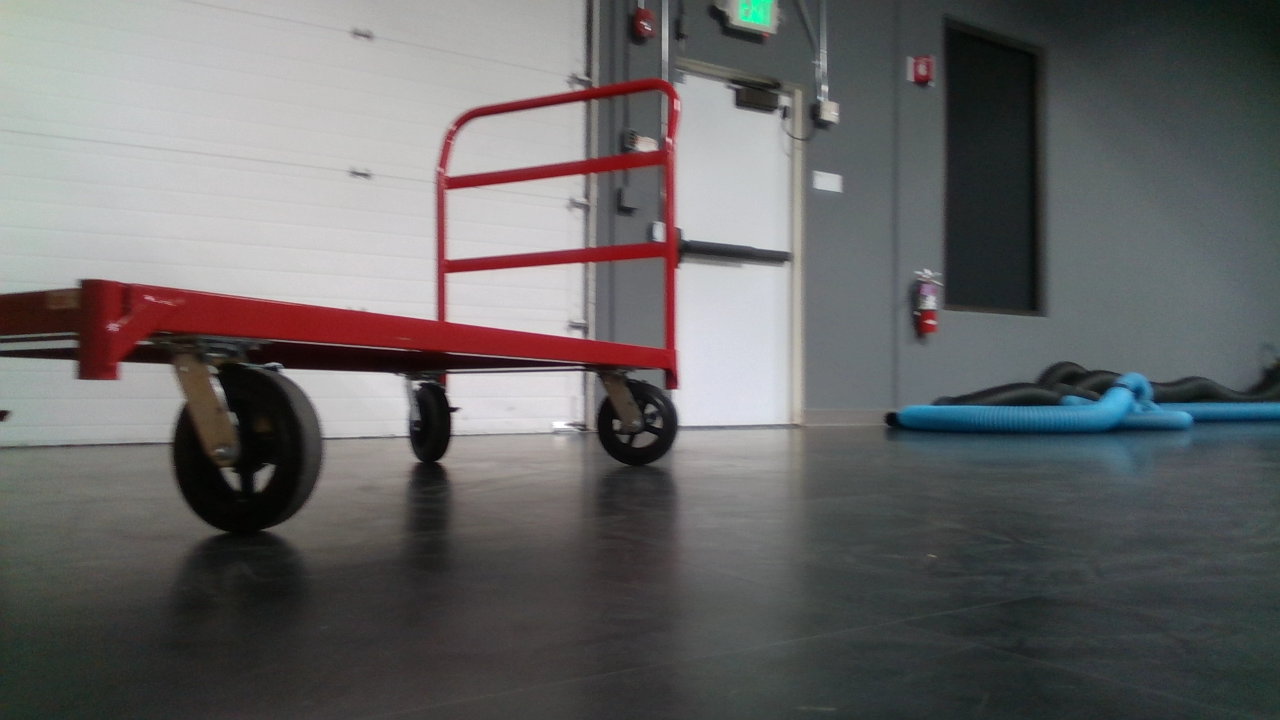Dolly: (0, 57, 688, 539)
Wheel: (163, 362, 322, 532), (594, 379, 680, 467), (407, 383, 455, 464)
